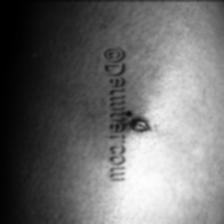Toxin: (125, 109, 152, 131)
